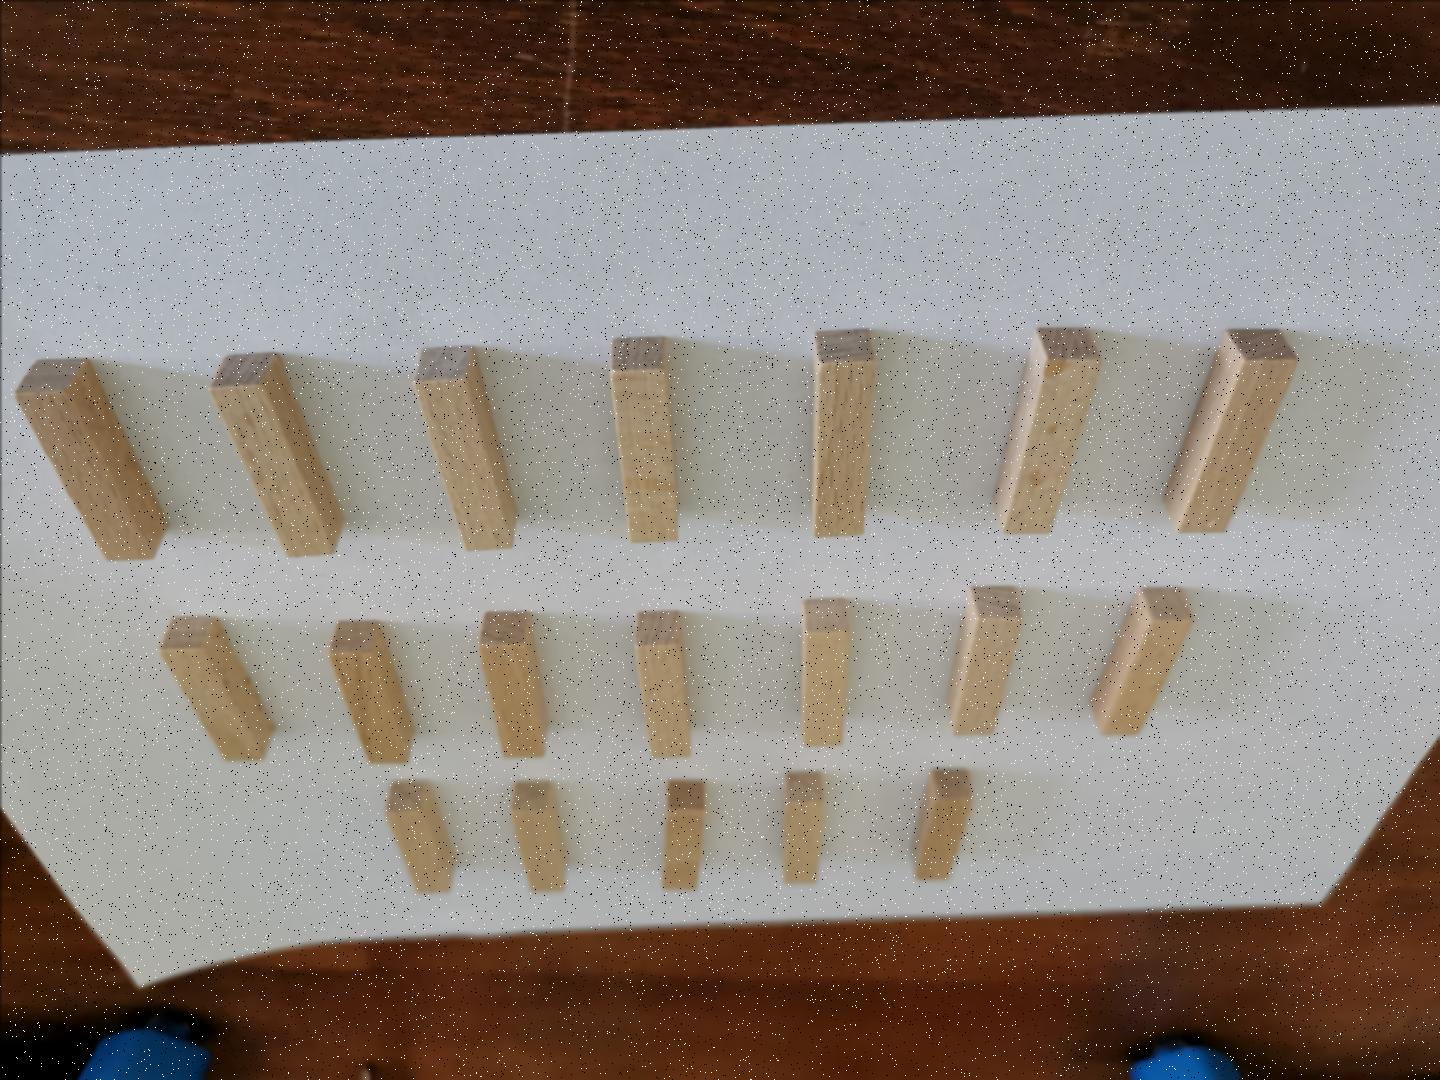jenga: (14, 357, 166, 559), (1161, 329, 1296, 532), (209, 352, 340, 557), (993, 327, 1100, 532), (414, 346, 515, 548), (160, 616, 273, 759), (1091, 588, 1193, 734), (610, 338, 678, 542), (813, 329, 874, 538), (329, 618, 414, 762), (945, 585, 1020, 734), (478, 610, 545, 757), (633, 610, 689, 757), (386, 782, 452, 892), (802, 599, 849, 745), (912, 768, 971, 880), (511, 782, 566, 892), (661, 779, 703, 888), (782, 770, 821, 883)
